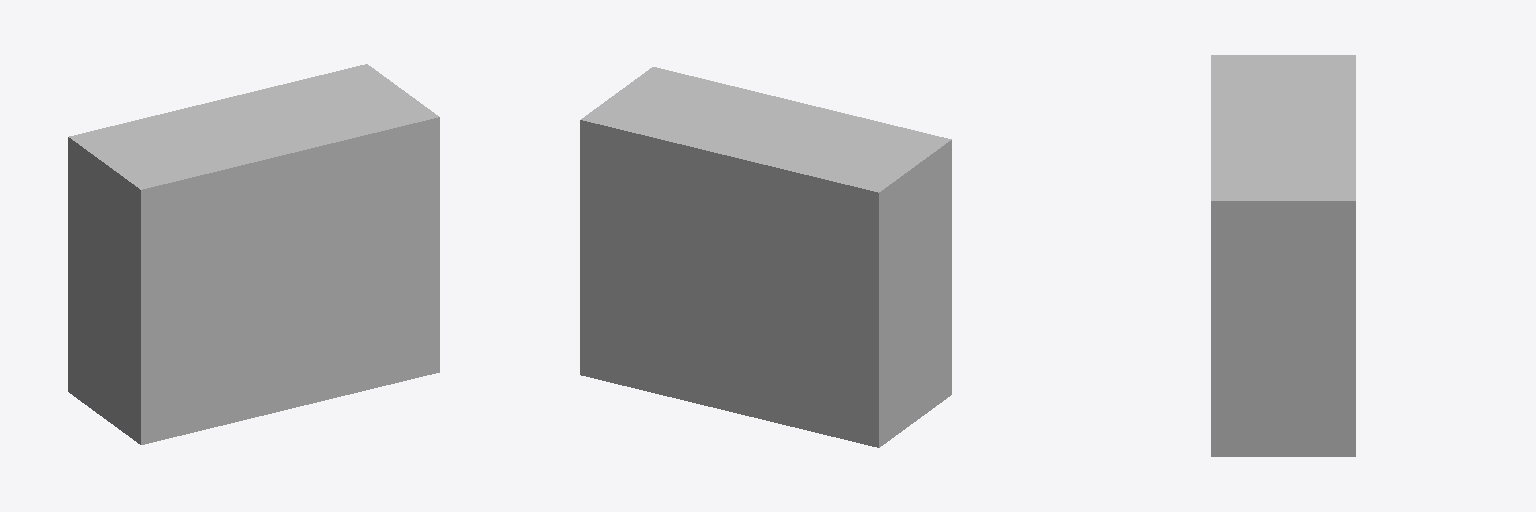
Rendered from Cap.obj.
3 views of the same model, side by side, from view 1: azimuth 30°, elevation 25°; view 2: azimuth 150°, elevation 25°; view 3: azimuth 270°, elevation 25° (orthographic).
Visible parts, largest first — view 1: 001_PngItem_313579, 000_Box_-_baked; view 2: 000_Box_-_baked; view 3: 000_Box_-_baked.
Boxes of the visible parts, x1,y1,x2,y2 form: 001_PngItem_313579: [156, 137, 415, 434]; 000_Box_-_baked: [68, 64, 439, 444]; 000_Box_-_baked: [580, 67, 951, 447]; 000_Box_-_baked: [1211, 55, 1355, 456].
Size of the model in its own units: 290 by 237 by 129.